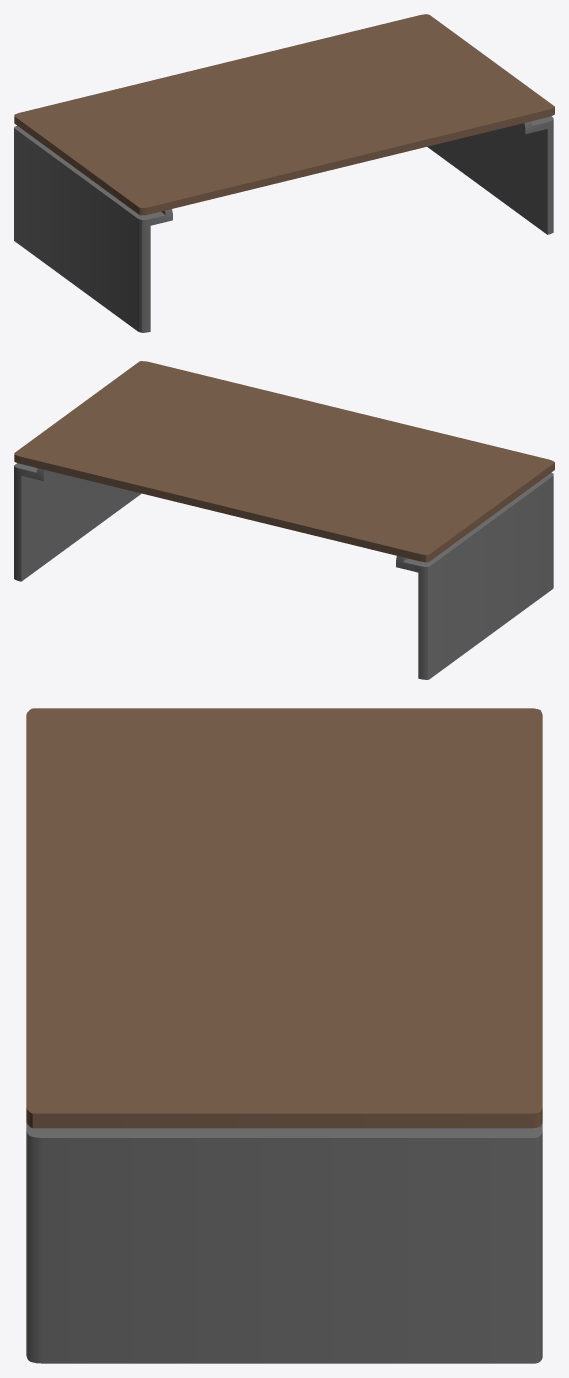
The model's file is WaitingTable.fbx.
3 renders of one model, top to bottom at view 1: azimuth 30°, elevation 25°; view 2: azimuth 150°, elevation 25°; view 3: azimuth 270°, elevation 25°, orthographic. The views are drawn at different scales.
Parts seen in each view (by area): view 1: WaitingTable; view 2: WaitingTable; view 3: WaitingTable.
Boxes of the visible parts, left/top/right/bottom form: WaitingTable: left=14, top=14, right=554, bottom=332; WaitingTable: left=14, top=361, right=554, bottom=679; WaitingTable: left=26, top=708, right=542, bottom=1363.
Bounding box in the file's own units: 687 × 198 × 370.
